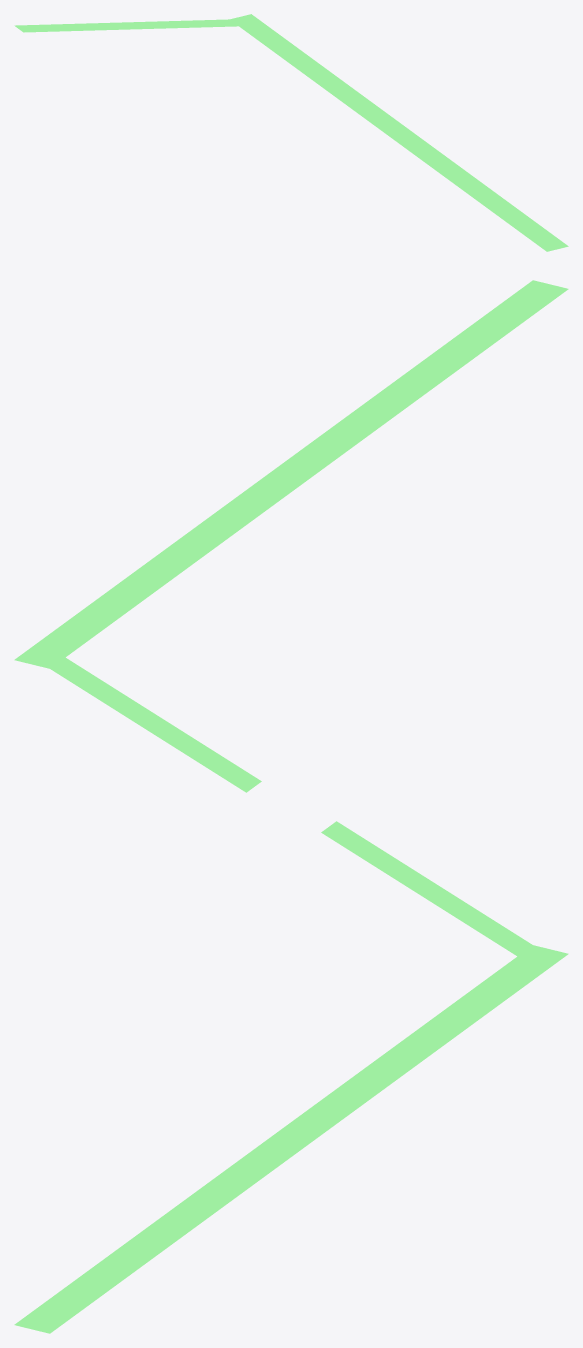
File: daes023shemi00750125kts.dae
3 views of the same model, one above another, from view 1: azimuth 30°, elevation 25°; view 2: azimuth 150°, elevation 25°; view 3: azimuth 330°, elevation 25° (orthographic). The views are drawn at different scales.
Visible parts, largest first — view 1: Plane; view 2: Plane; view 3: Plane.
Boxes of the visible parts, bbox=[...] form: Plane: bbox=[15, 14, 568, 251]; Plane: bbox=[15, 280, 567, 792]; Plane: bbox=[15, 821, 567, 1333].
Size of the model in its own units: 34.51 by 115 by 0.
